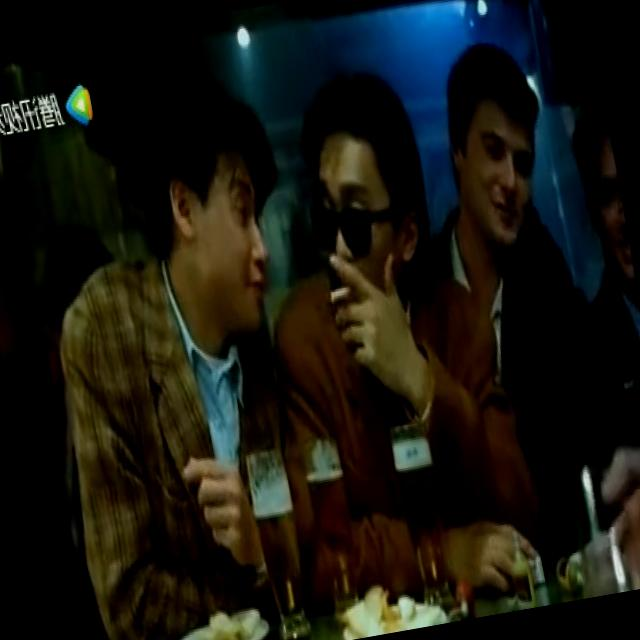cigarette: (322, 279, 350, 308)
